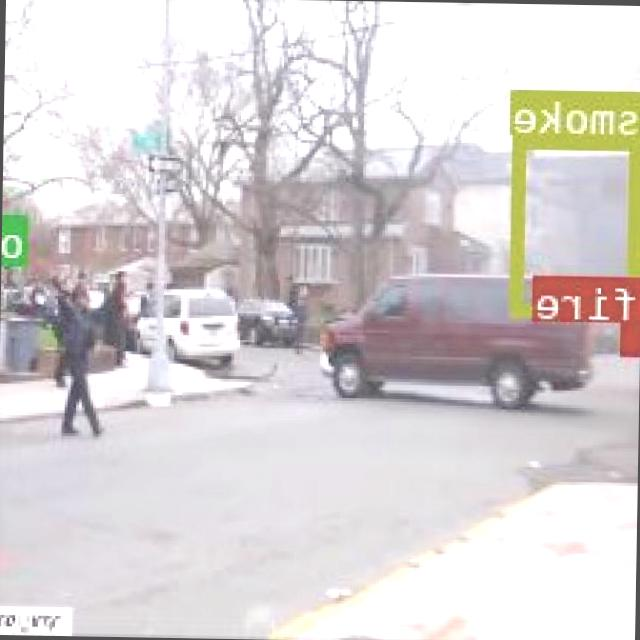fire: (622, 321, 640, 353)
smoke: (511, 135, 640, 317)
